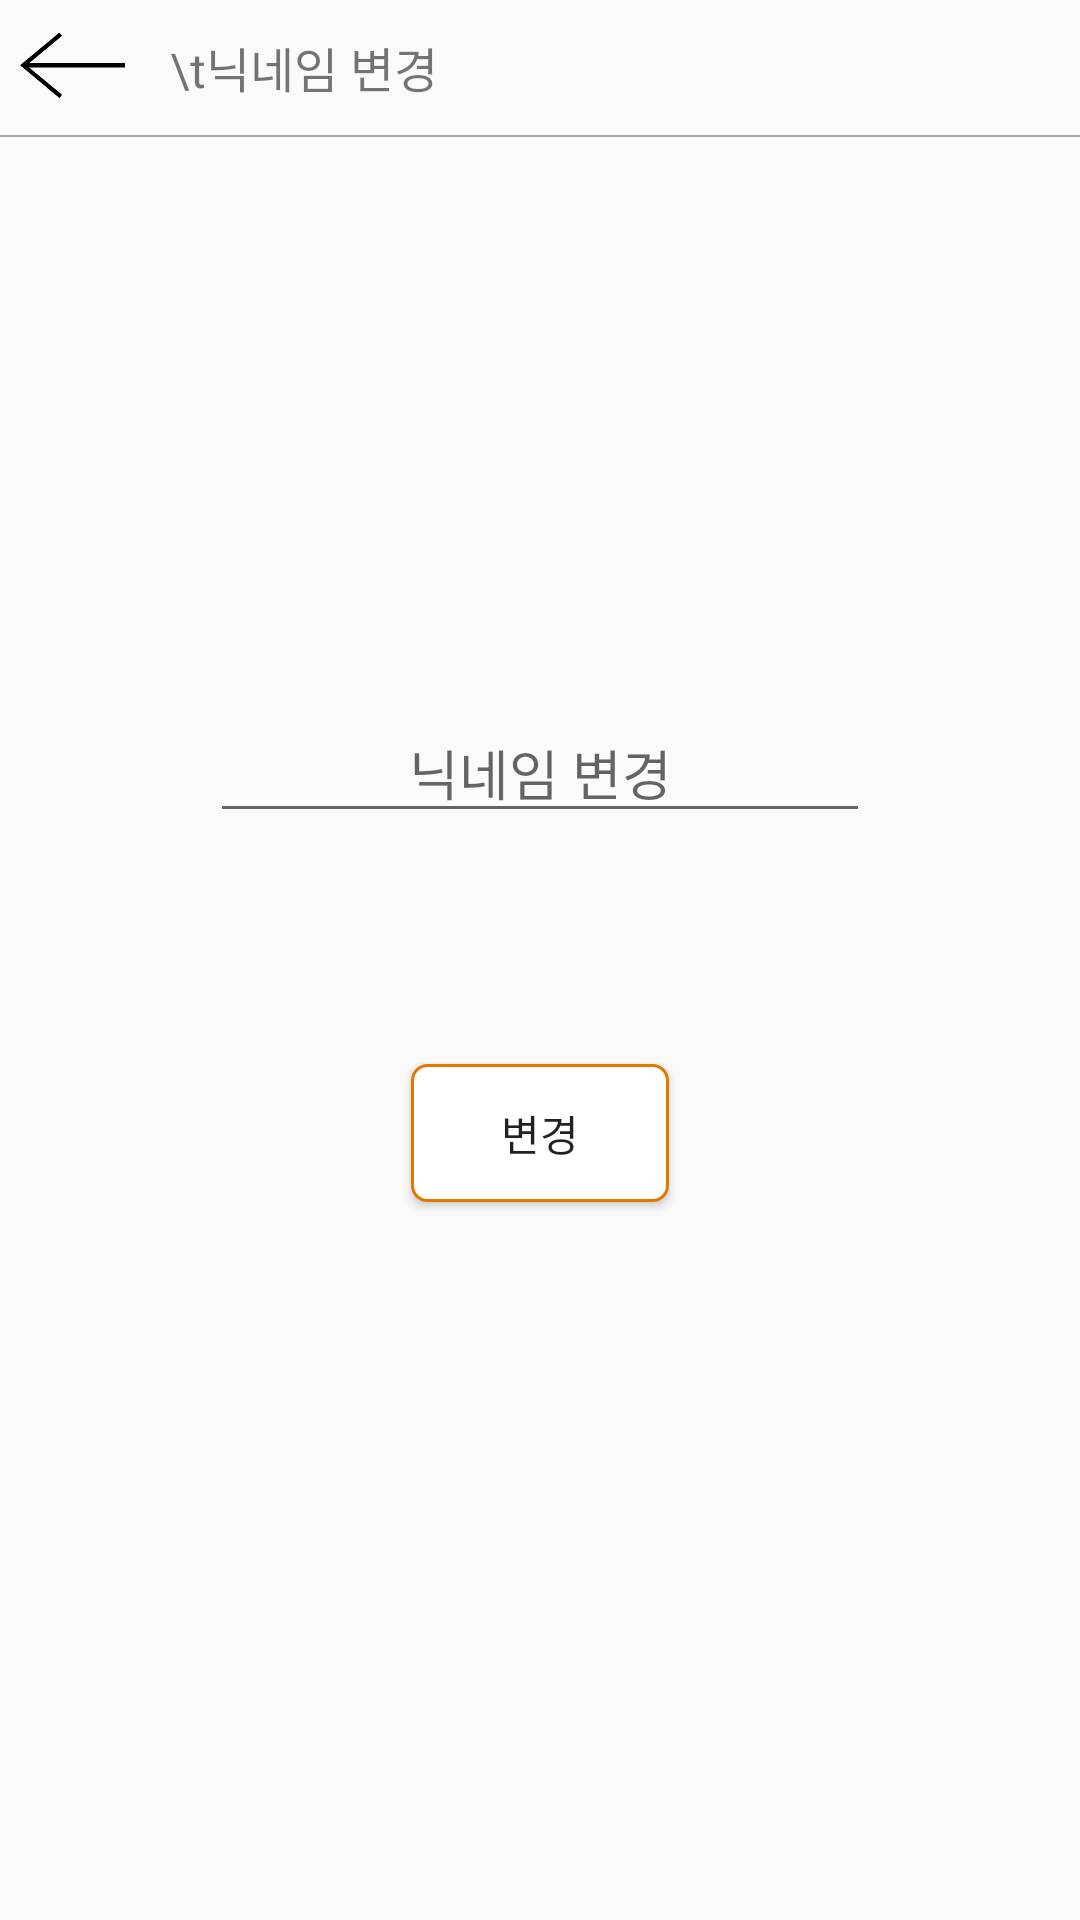

Icon click points for this 1080×1920 phone screenshot, format (x,y):
back: (72,65)
